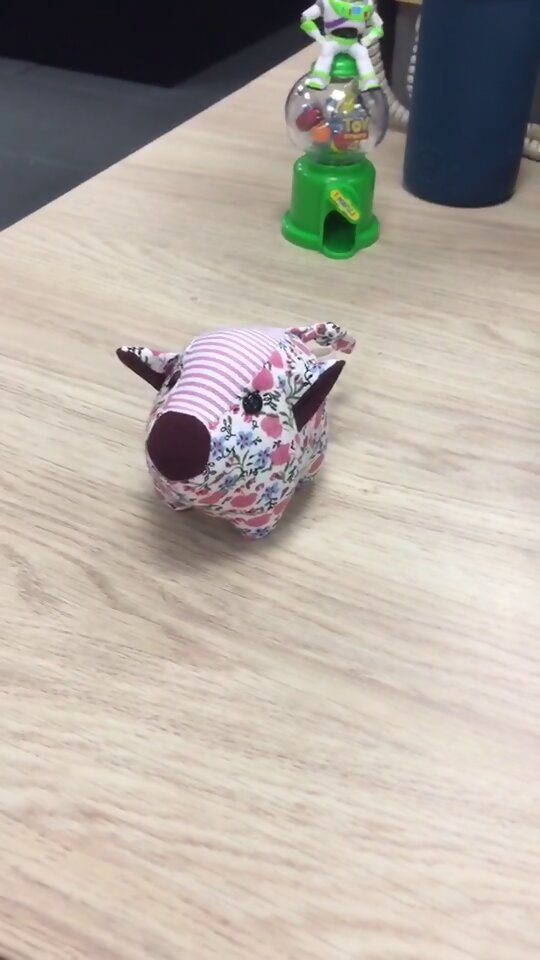pig: (110, 318, 359, 543)
